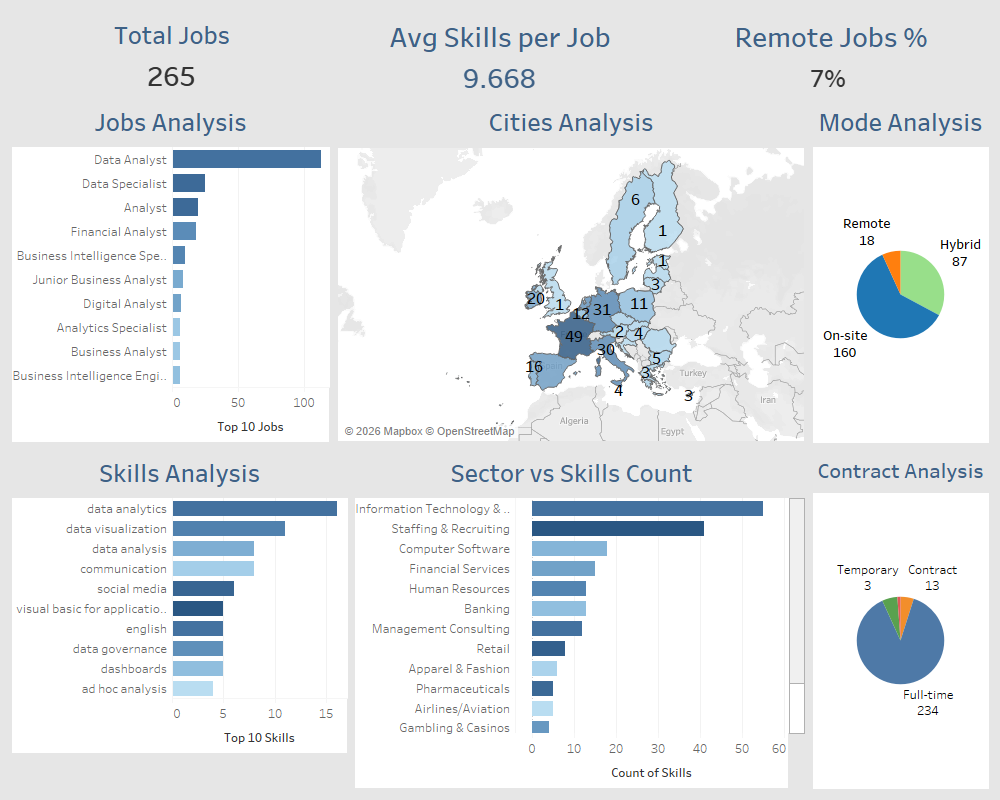

This screenshot's page, from the dashboard's own definition file:
{"tool":"tableau","page":{"name":"Dashboard 1","canvas":[1000,800],"ordinal":0},"visuals":[{"type":"worksheet","title":"Total Jobs","mark":"Automatic","box":[8,8,328,87]},{"type":"worksheet","title":"Avg Skills per Job","mark":"Automatic","box":[336,8,328,87]},{"type":"worksheet","title":" Remote Jobs % ","mark":"Automatic","box":[664,8,328,87]},{"type":"worksheet","title":"Jobs Analysis","mark":"Automatic","rows":["job title"],"cols":["Number of Records"],"box":[8,95,325,351]},{"type":"worksheet","title":"Cities Analysis","mark":"Automatic","box":[333,95,476,351]},{"type":"worksheet","title":"Mode Analysis","mark":"Pie","box":[809,95,183,351]},{"type":"worksheet","title":"Skills Analysis","mark":"Bar","rows":["skills list - Split 2"],"cols":["Number of Records"],"box":[8,446,343,311]},{"type":"worksheet","title":"Sector vs Skills Count","mark":"Bar","rows":["sector"],"cols":["skills count"],"box":[351,446,458,346]},{"type":"worksheet","title":"Contract Analysis","mark":"Pie","box":[809,446,183,346]}]}

Visuals, with their boxes in screenshot pixels (x1, y1, x2, y2), scaled from the page's 1000x800 canvas onto the 1000x800 screenshot:
"Total Jobs" worksheet: 8/8/336/95
"Avg Skills per Job" worksheet: 336/8/664/95
" Remote Jobs % " worksheet: 664/8/992/95
"Jobs Analysis" worksheet: 8/95/333/446
"Cities Analysis" worksheet: 333/95/809/446
"Mode Analysis" worksheet (Pie marks): 809/95/992/446
"Skills Analysis" worksheet (Bar marks): 8/446/351/757
"Sector vs Skills Count" worksheet (Bar marks): 351/446/809/792
"Contract Analysis" worksheet (Pie marks): 809/446/992/792
